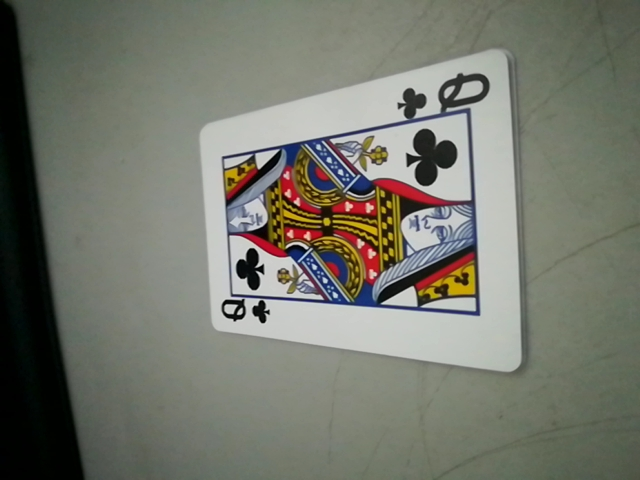mh j: (394, 68, 497, 124), (213, 290, 277, 332)
